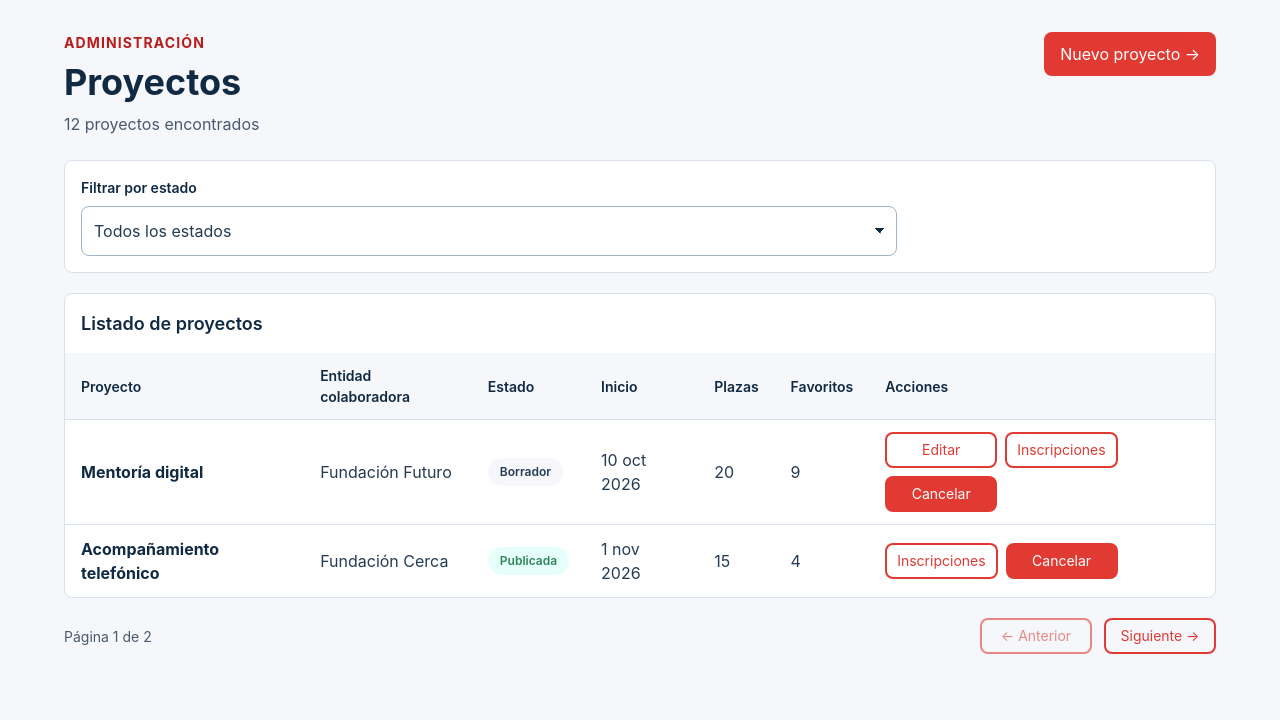
it: ActivitiesListPage › uses Page metadata to paginate
Check: the text "Página 1 de 2" is shown, box [64,626,152,647]
Check: the button "← Anterior" is disabled, box [980,618,1092,654]
Click the button "Siguiente →" at x=1160, y=636, box [1104,618,1216,654]
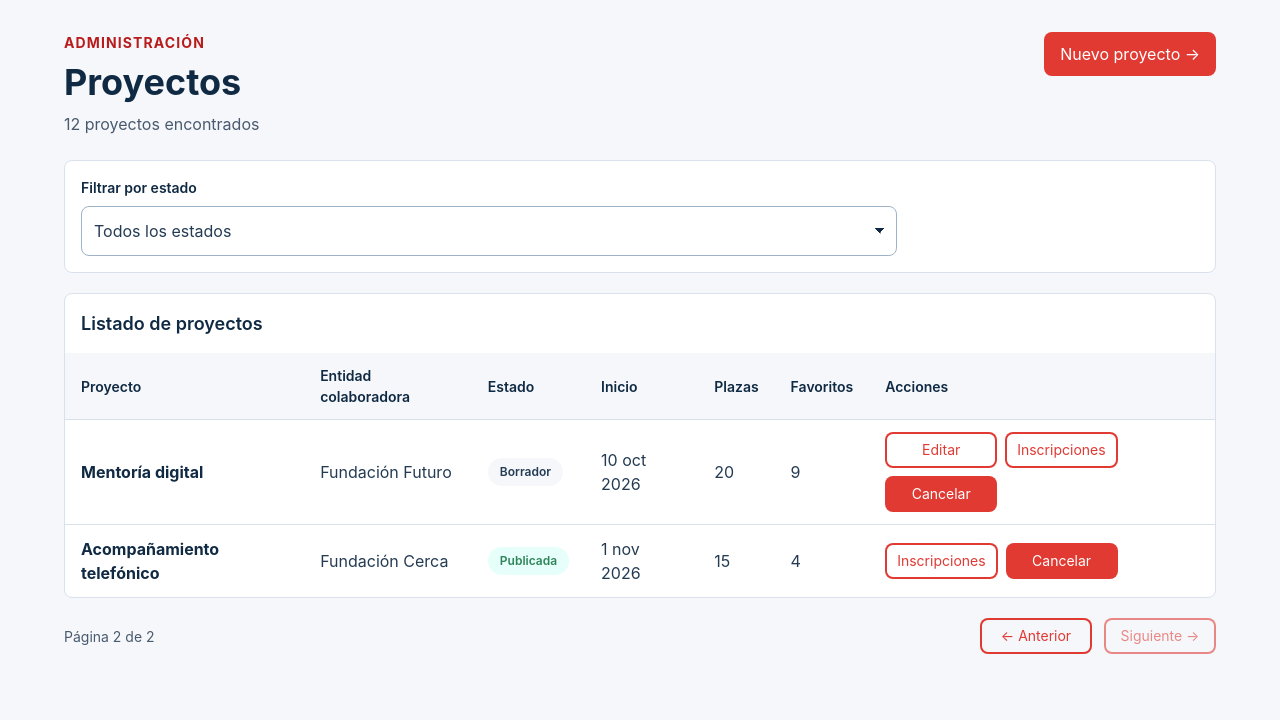
Check: the text "Página 2 de 2" is shown, box [64,626,155,647]
Check: the button "Siguiente →" is disabled, box [1104,618,1216,654]
